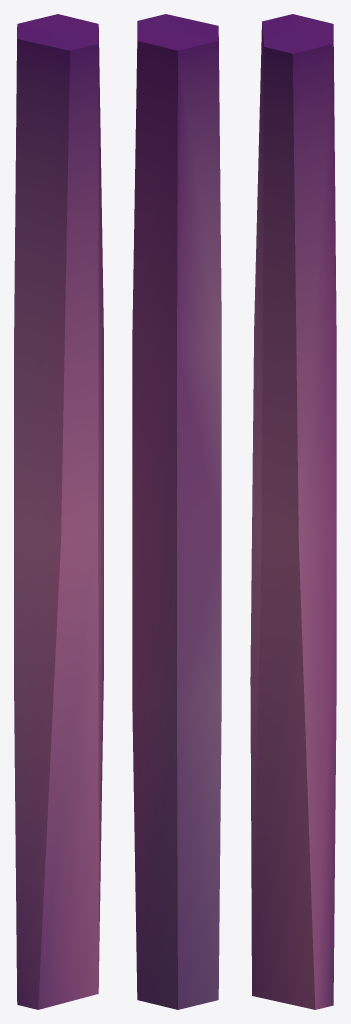
File: variant 1.fbx
3 renders of one model, left to right at view 1: azimuth 30°, elevation 25°; view 2: azimuth 210°, elevation 25°; view 3: azimuth 330°, elevation 25°, orthographic.
Parts seen in each view (by area): view 1: Cube.003; view 2: Cube.003; view 3: Cube.003.
Part boxes in pixels (x1=…): Cube.003: x1=14, y1=14, x2=103, y2=1009; Cube.003: x1=132, y1=14, x2=221, y2=1009; Cube.003: x1=250, y1=14, x2=336, y2=1009.
Size of the model in its own units: 421 by 4400 by 346.
